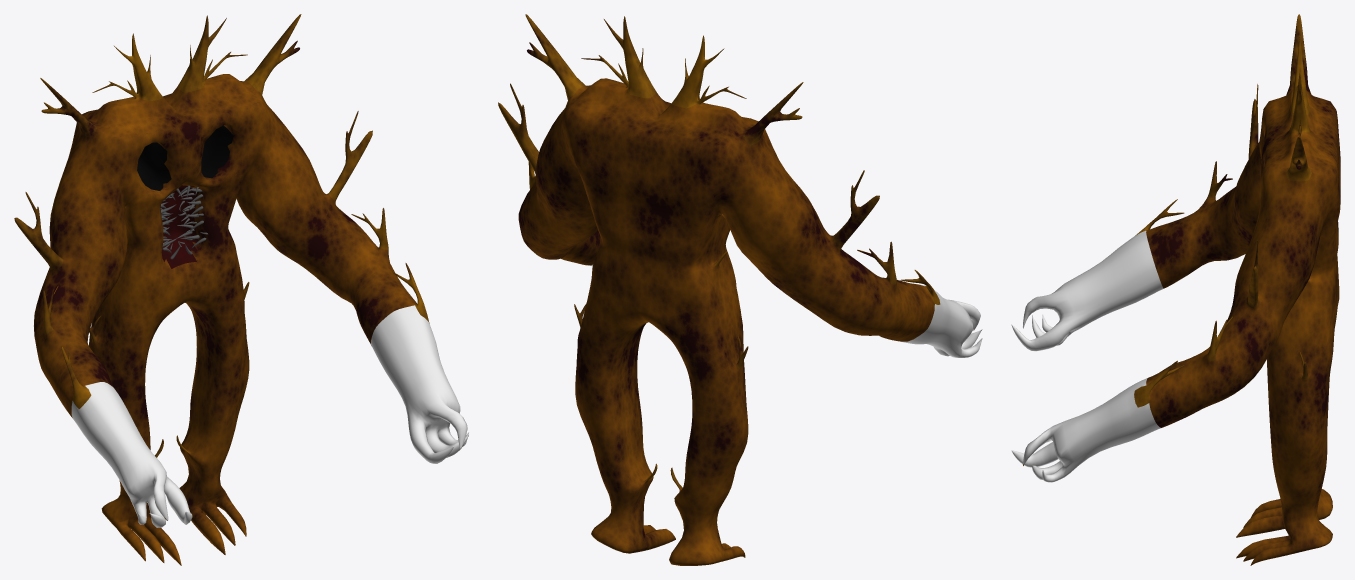
File: DriftwoodV13.fbx
The picture shows the model from 3 angles, left to right: view 1: azimuth 30°, elevation 25°; view 2: azimuth 150°, elevation 25°; view 3: azimuth 270°, elevation 25°; orthographic projection. The views are drawn at different scales.
Parts seen in each view (by area): view 1: Body; view 2: Body; view 3: Body.
Part boxes in pixels (x1,y1,x2,y2): Body: (14,14,469,565); Body: (498,14,982,565); Body: (1011,14,1340,565).
Bounding box in the file's own units: 891 × 1217 × 736.
